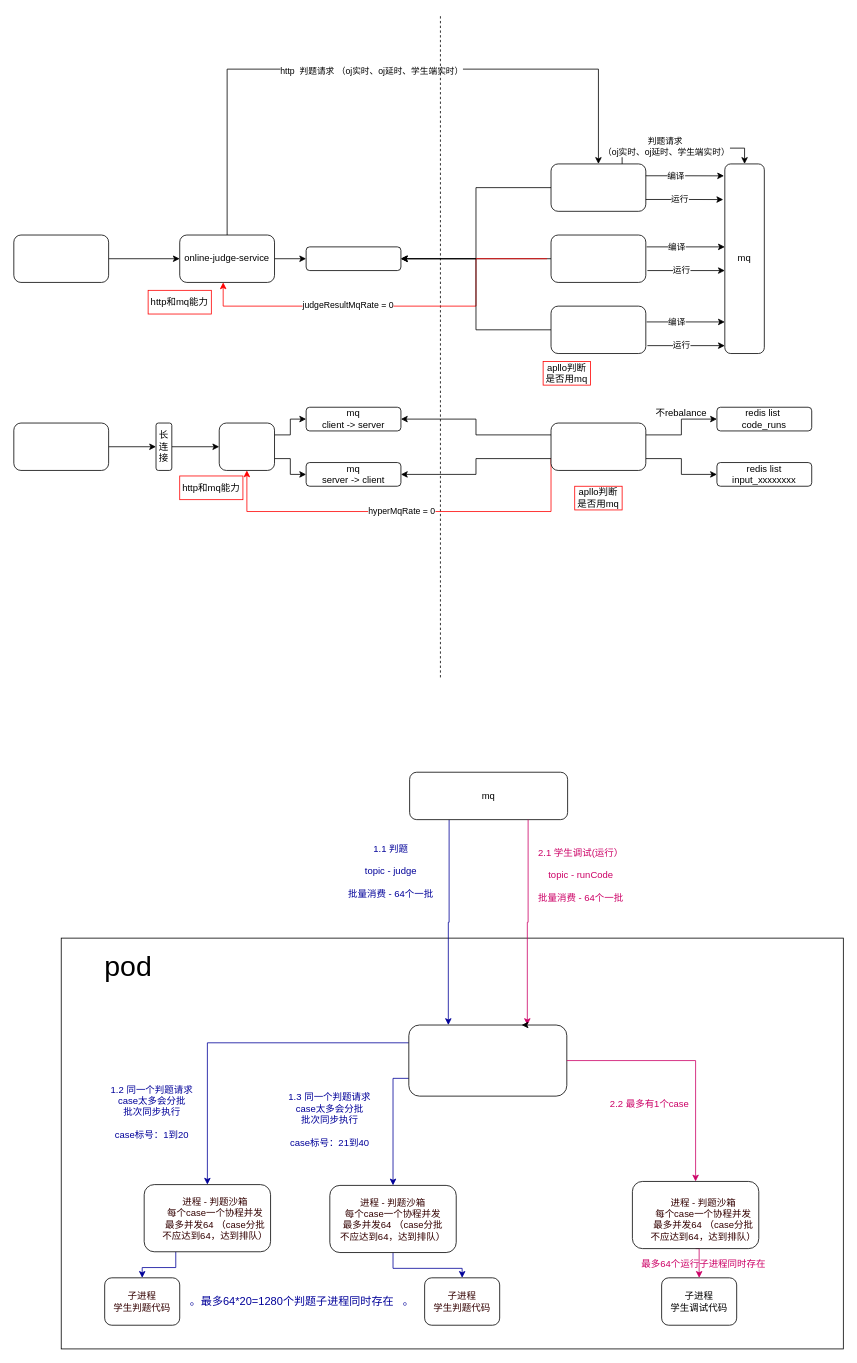
Some shapes in this 857 by 1363 pixel diagram are drawn without their labels. The shapes that lost their labels are listed below. From the top down, each one's centre as x and y in pixels, then its label:
the point at 598,187: oj 实时判题
the point at 61,258: 前端/客户端
the point at 353,258: 判题结果mq
the point at 598,258: oj 延时判题
the point at 598,329: 学生端 实时判题
the point at 61,446: u3d客户端
the point at 246,446: 长连接 业务
the point at 598,446: 云编译运行 在线gdb调试
the point at 487,1060: judge-center
